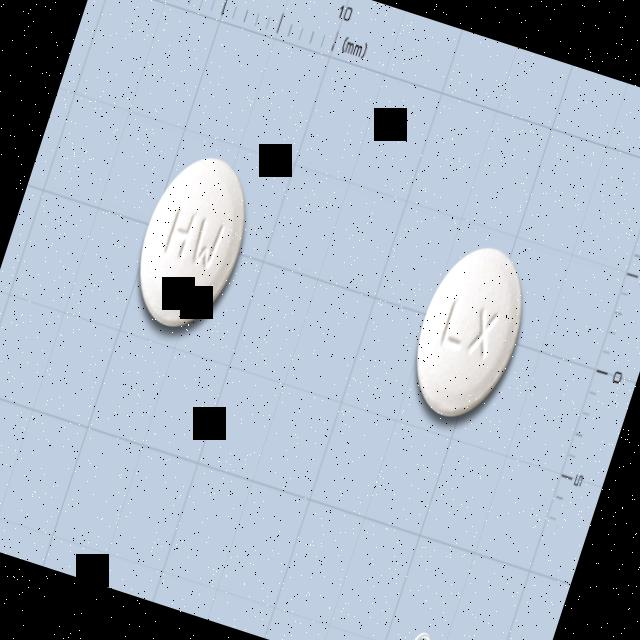Max-xacin: (397, 233, 542, 432), (120, 144, 264, 342)
